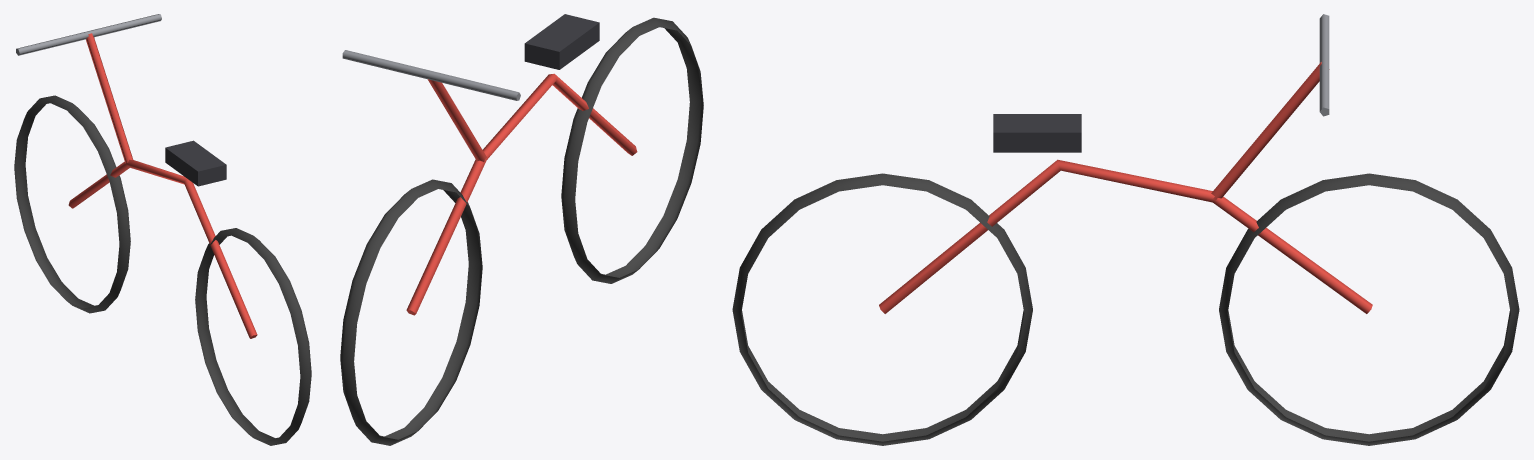
Rendered from bicycle.glb.
3 renders of one model, left to right at view 1: azimuth 30°, elevation 25°; view 2: azimuth 150°, elevation 25°; view 3: azimuth 270°, elevation 25°, orthographic. The views are drawn at different scales.
Visible parts, largest first — view 1: bicycle; view 2: bicycle; view 3: bicycle.
Part boxes in pixels (bbox=[...]): bicycle: bbox=[14, 14, 311, 445]; bicycle: bbox=[340, 14, 703, 445]; bicycle: bbox=[732, 14, 1519, 445].
Bounding box in the file's own units: 0.5 × 0.9614 × 1.78.
